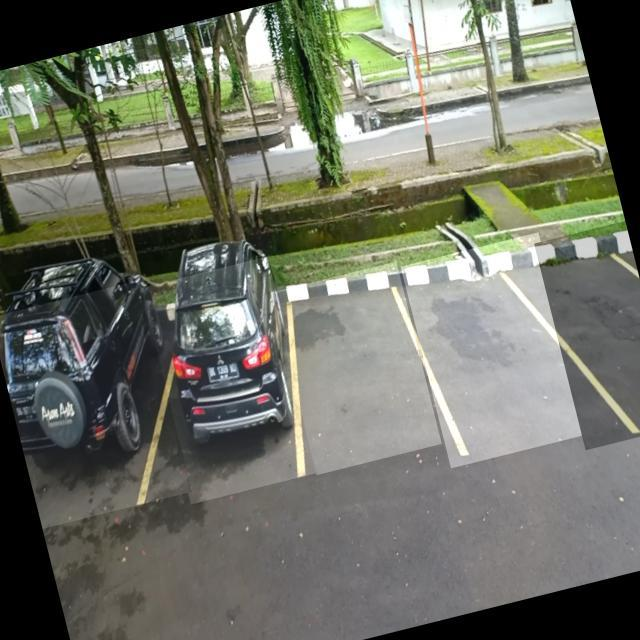empty: (401, 232, 589, 468), (270, 261, 442, 474), (534, 220, 640, 449)
occupied: (0, 279, 191, 528), (137, 256, 321, 504)
